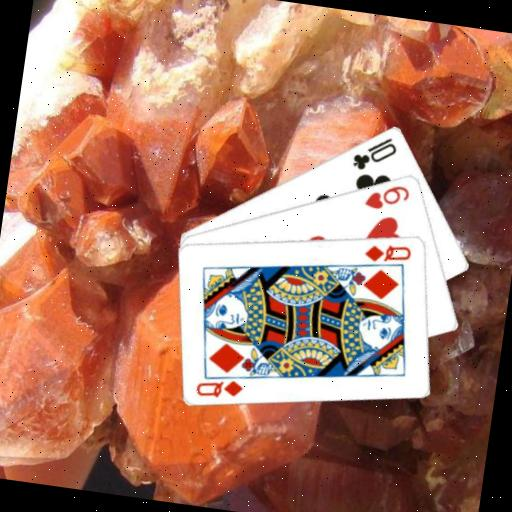10C: (348, 129, 401, 176)
6H: (361, 177, 412, 215)
QD: (192, 372, 247, 404), (362, 237, 415, 268)
